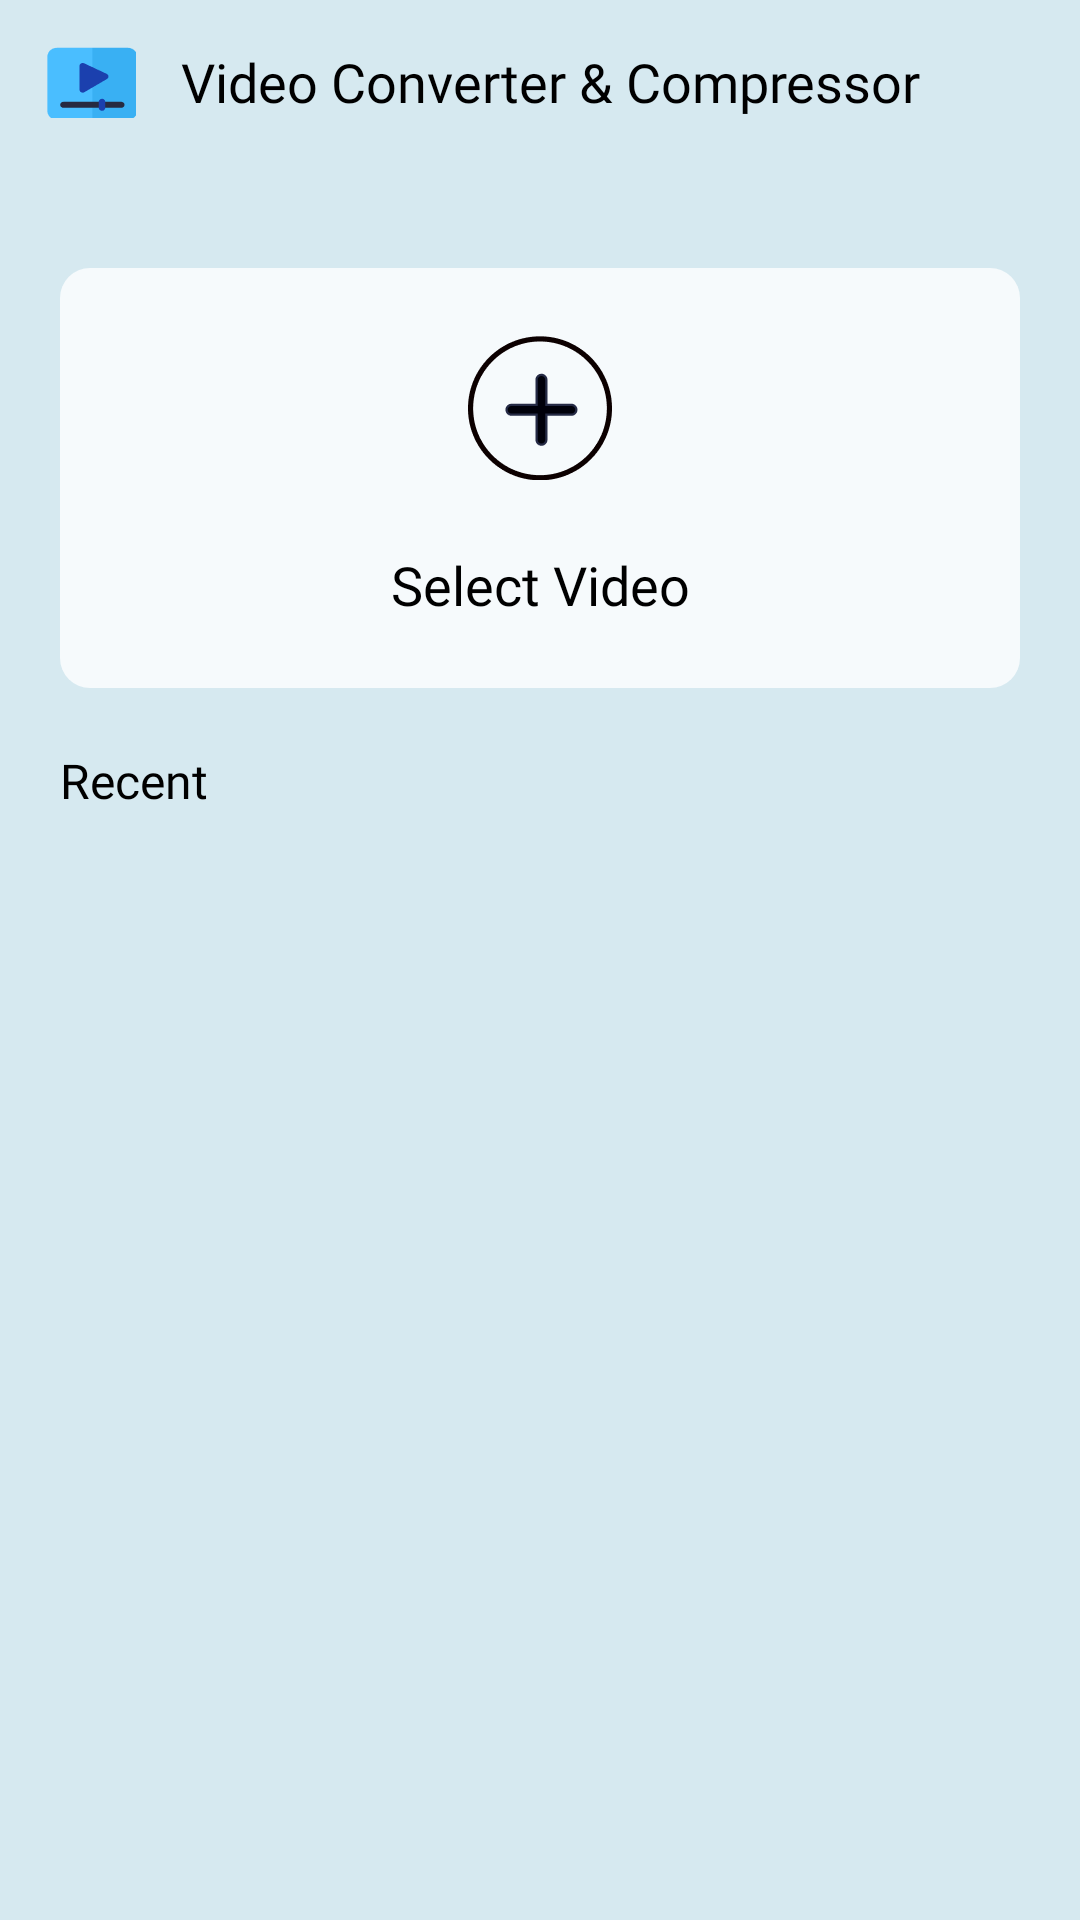

Where icons sit on this 1080 x 1920 app screen, as (x1, y1, x2, y2):
add video: (468, 336, 612, 480)
